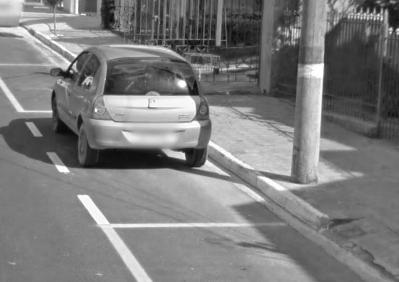car: (44, 38, 217, 176)
